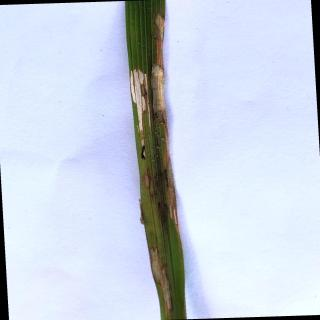Hawar-Daun: (160, 120, 183, 238), (148, 247, 174, 313), (130, 70, 152, 134), (149, 62, 166, 116), (152, 14, 166, 68), (142, 173, 152, 188)
